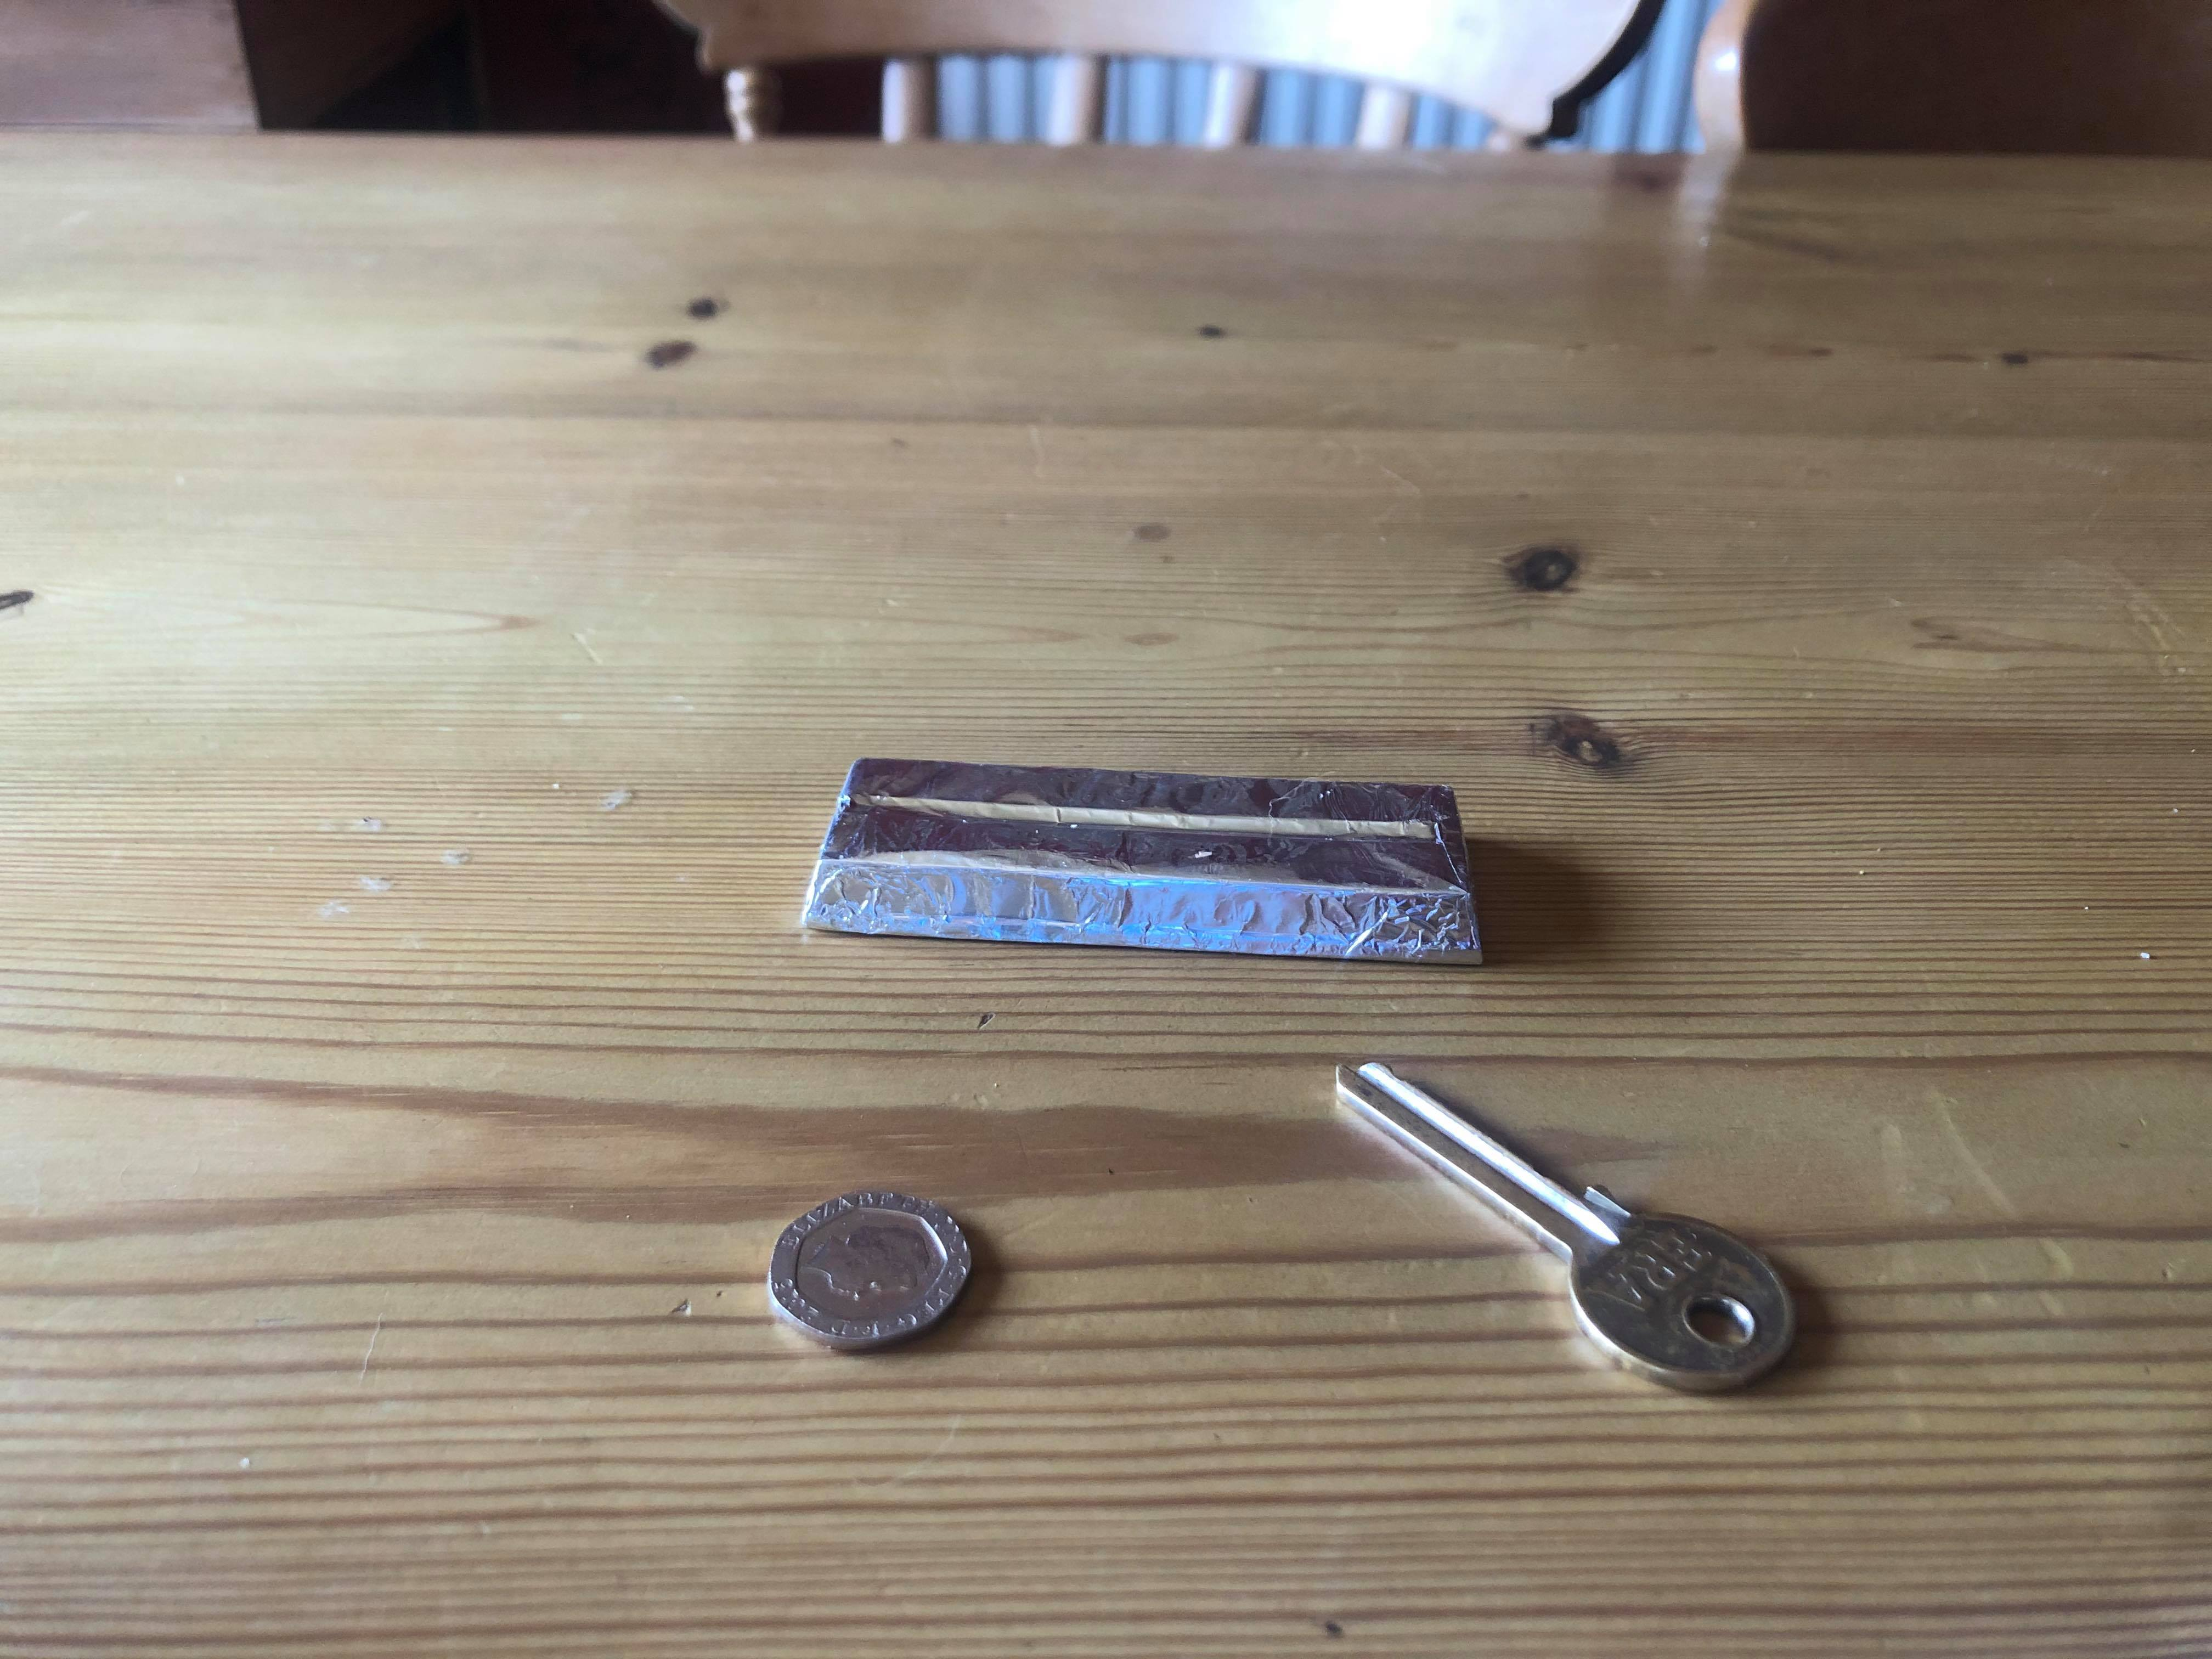Coin: (766, 1188, 977, 1354)
Foil: (803, 746, 1498, 992)
Key: (1320, 1056, 1808, 1420)
